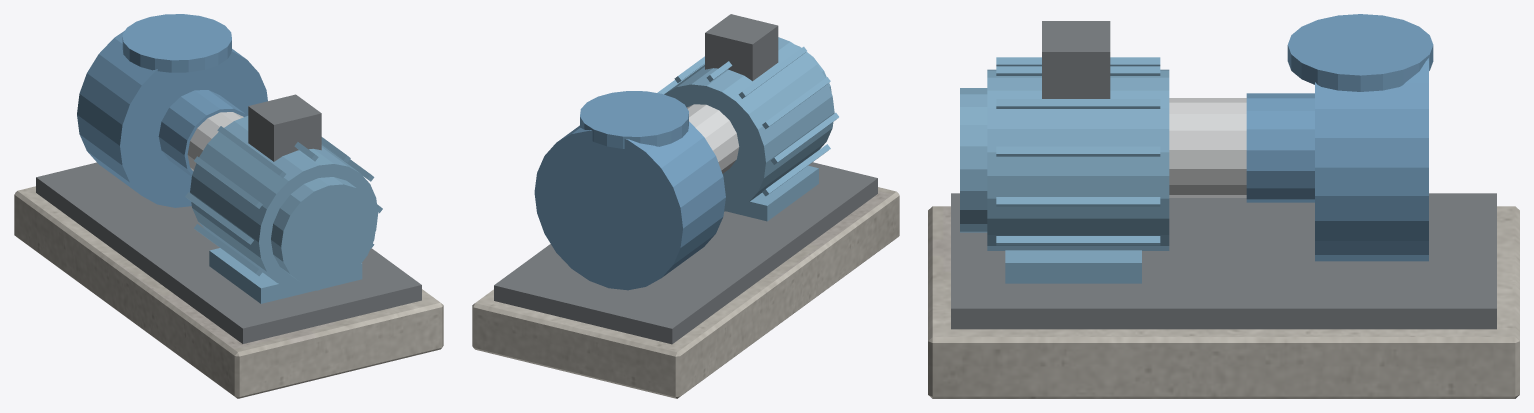
File: pumpset.glb
3 renders of one model, left to right at view 1: azimuth 30°, elevation 25°; view 2: azimuth 150°, elevation 25°; view 3: azimuth 270°, elevation 25°, orthographic. The views are drawn at different scales.
Visible parts, largest first — view 1: pumpset_steel_d, pumpset_motor, pumpset_concrete, pumpset_pump, pumpset_galv; view 2: pumpset_pump, pumpset_steel_d, pumpset_concrete, pumpset_motor, pumpset_galv; view 3: pumpset_steel_d, pumpset_concrete, pumpset_motor, pumpset_pump, pumpset_galv.
Part boxes in pixels (x1,y1,x2,y2): pumpset_steel_d: (36,94,421,343); pumpset_motor: (185,116,382,303); pumpset_concrete: (14,186,443,398); pumpset_pump: (77,14,267,207); pumpset_galv: (187,112,243,171); pumpset_pump: (534,91,725,290); pumpset_steel_d: (494,14,877,344); pumpset_concrete: (472,187,899,398); pumpset_motor: (657,37,838,221); pumpset_galv: (687,104,739,173); pumpset_steel_d: (951,21,1496,329); pumpset_concrete: (928,206,1519,398); pumpset_motor: (960,57,1169,283); pumpset_pump: (1246,14,1433,261); pumpset_galv: (1169,98,1246,197).
Bounding box in the file's own units: 0.7 × 0.72 × 1.3.
5 materials, 1 textured.
